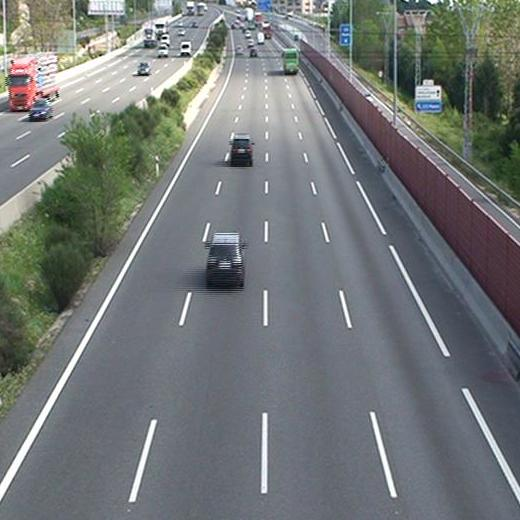bus: (283, 50, 300, 77)
car: (206, 234, 247, 288), (229, 134, 255, 166), (234, 42, 244, 56), (250, 49, 261, 58)
